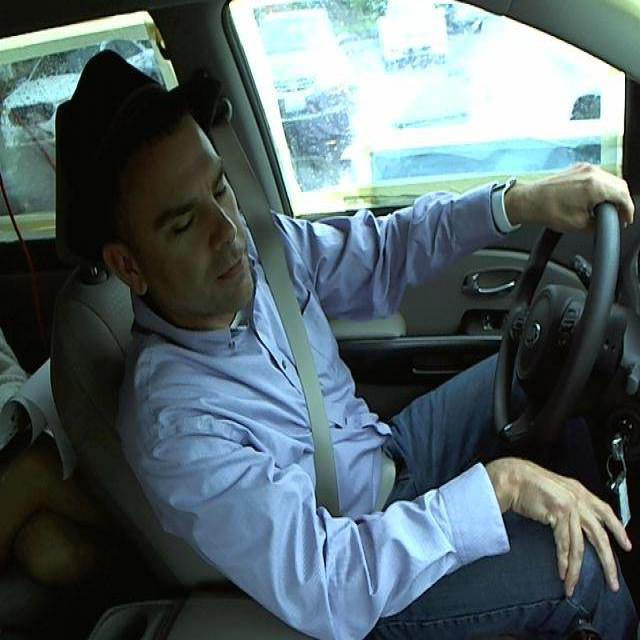seatbelt: (248, 217, 397, 500)
